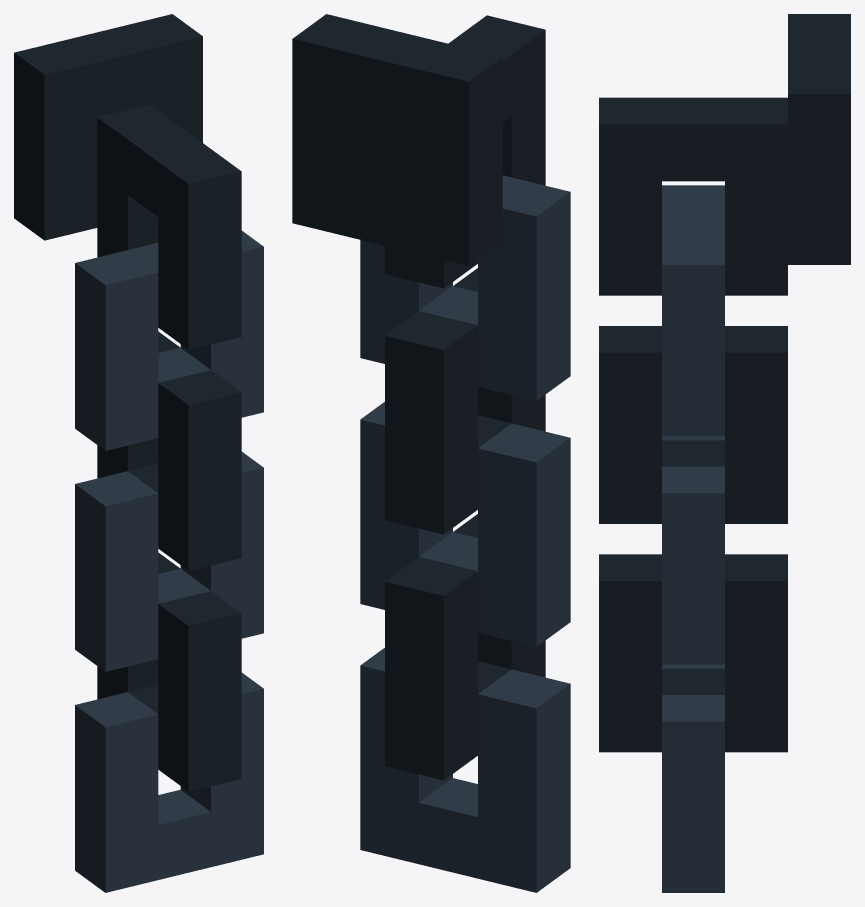
The model's file is chain_1.obj.
The picture shows the model from 3 angles, left to right: view 1: azimuth 30°, elevation 25°; view 2: azimuth 150°, elevation 25°; view 3: azimuth 270°, elevation 25°; orthographic projection. The views are drawn at different scales.
Bounding box in the file's own units: 0.3 × 1.4 × 0.4.
Materials: 1 (1 with a texture image).
